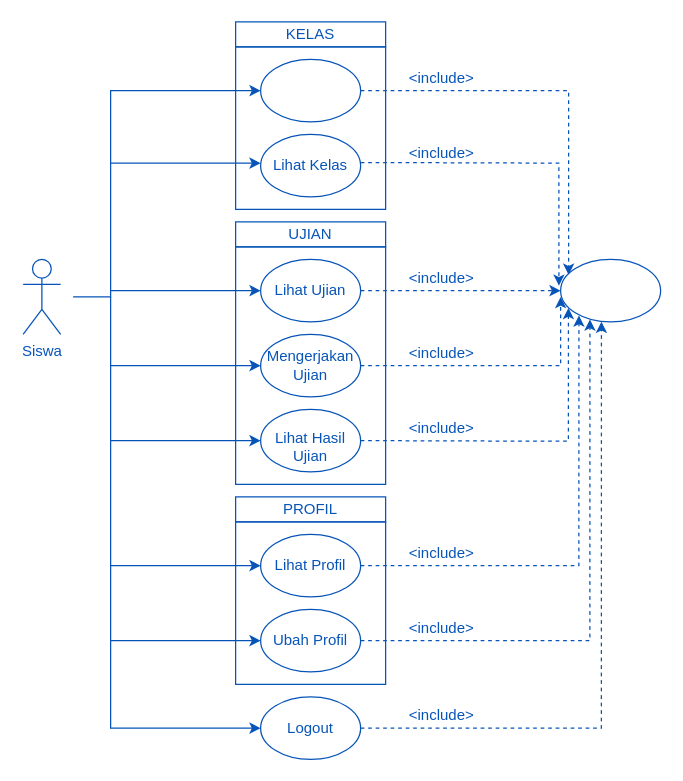
This 683x781 diagram has some shape labels left out. The box of each missing label's shape, as (x1, y1, x2, y2) in pixels:
Gabung Kelas: (259, 58, 361, 122)
Login: (559, 258, 661, 322)
